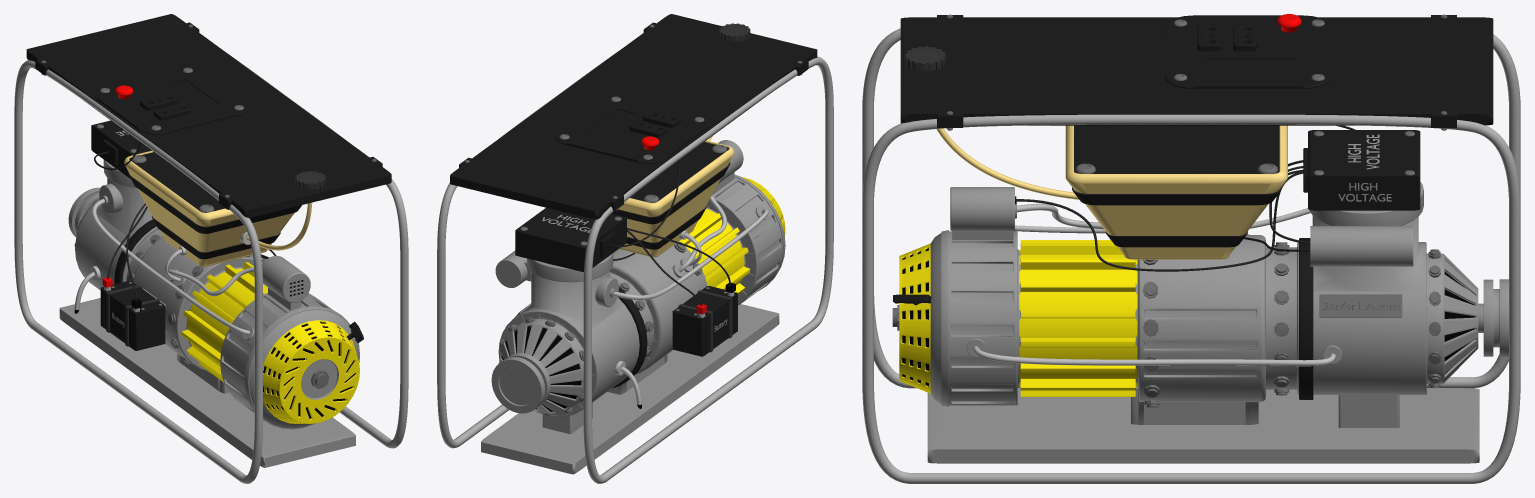
File: electricity_genarator(1).glb
3 renders of one model, left to right at view 1: azimuth 30°, elevation 25°; view 2: azimuth 150°, elevation 25°; view 3: azimuth 270°, elevation 25°, orthographic. The views are drawn at different scales.
Parts seen in each view (by area): view 1: Cubo.011, Cerchio, Percorso Nurbs, Cubo, Cerchio.020, Cubo.016, Cubo.007, Cerchio.014, Cubo.022, Cubo.001, Cubo.018, Cubo.019 (+15 smaller); view 2: Cubo.011, Cerchio, Percorso Nurbs, Cubo, Cubo.016, Cubo.002, Cubo.022, Cubo.007, Cubo.001, Cerchio.014, Cerchio.001, Cubo.019 (+14 smaller); view 3: Cerchio, Cubo.011, Cubo, Percorso Nurbs, Cerchio.014, Cubo.007, Cubo.016, Cubo.019, Cubo.002, Cubo.022, Cilindro.002, Cubo.018 (+18 smaller).
Boxes of the visible parts, <box> form: Cubo.011: <box>26,14,391,217</box>; Cerchio: <box>75,177,359,429</box>; Percorso Nurbs: <box>14,54,408,483</box>; Cubo: <box>59,298,355,467</box>; Cerchio.020: <box>263,320,359,423</box>; Cubo.016: <box>95,67,248,134</box>; Cubo.007: <box>124,150,294,266</box>; Cerchio.014: <box>181,262,267,382</box>; Cubo.022: <box>173,123,304,176</box>; Cubo.001: <box>100,280,165,350</box>; Cubo.018: <box>128,172,301,259</box>; Cubo.019: <box>129,152,224,212</box>; Cubo.011: <box>450,14,817,219</box>; Cerchio: <box>498,174,785,417</box>; Percorso Nurbs: <box>437,51,833,483</box>; Cubo: <box>481,304,779,474</box>; Cubo.016: <box>555,96,710,163</box>; Cubo.002: <box>515,207,626,272</box>; Cubo.022: <box>631,55,763,109</box>; Cubo.007: <box>618,140,734,257</box>; Cubo.001: <box>672,286,737,356</box>; Cerchio.014: <box>679,209,749,294</box>; Cerchio.001: <box>491,353,550,413</box>; Cubo.019: <box>630,142,728,202</box>; Cerchio: <box>930,216,1478,424</box>; Cubo.011: <box>900,17,1493,125</box>; Cubo: <box>927,388,1479,463</box>; Percorso Nurbs: <box>862,28,1520,483</box>; Cerchio.014: <box>1019,240,1137,396</box>; Cubo.007: <box>1065,125,1287,259</box>; Cubo.016: <box>1164,15,1331,88</box>; Cubo.019: <box>1074,125,1279,173</box>; Cubo.002: <box>1303,130,1420,210</box>; Cubo.022: <box>1010,26,1132,82</box>; Cilindro.002: <box>1310,226,1413,266</box>; Cubo.018: <box>1072,187,1281,247</box>.
Size of the model in its own units: 0.5049 by 0.8271 by 1.28.
